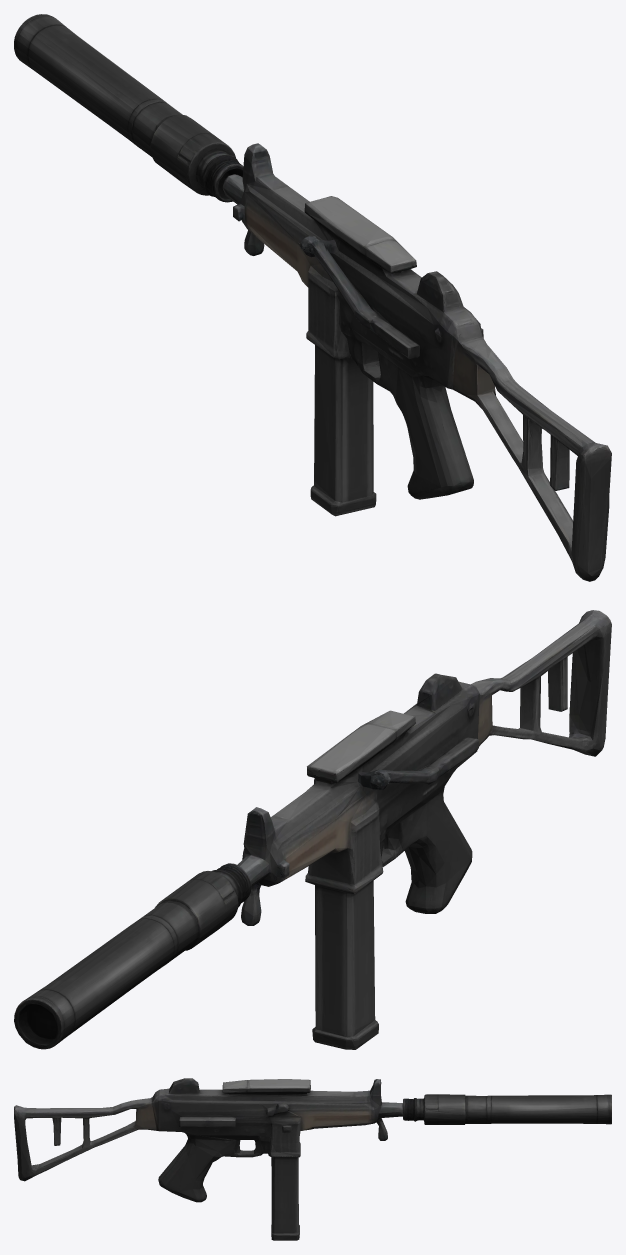
Rendered from black_mp5k_suppressed.glb.
The picture shows the model from 3 angles, top to bottom: view 1: azimuth 30°, elevation 25°; view 2: azimuth 150°, elevation 25°; view 3: azimuth 270°, elevation 25°; orthographic projection. The views are drawn at different scales.
Parts seen in each view (by area): view 1: black_mp5k_suppressed; view 2: black_mp5k_suppressed; view 3: black_mp5k_suppressed.
Boxes of the visible parts, <box> form: black_mp5k_suppressed: <box>14,14,611,581</box>; black_mp5k_suppressed: <box>14,610,611,1049</box>; black_mp5k_suppressed: <box>14,1078,611,1240</box>.
Bounding box in the file's own units: 0.0611 × 0.2024 × 0.7012.
2 materials, 2 textured.
